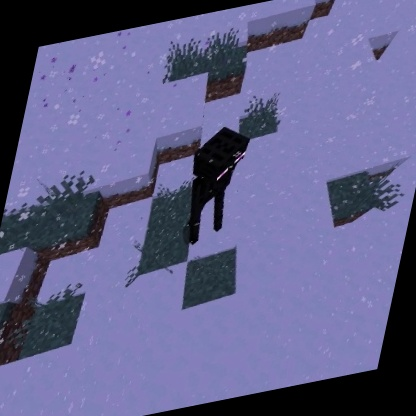enderman: (172, 117, 258, 251)
